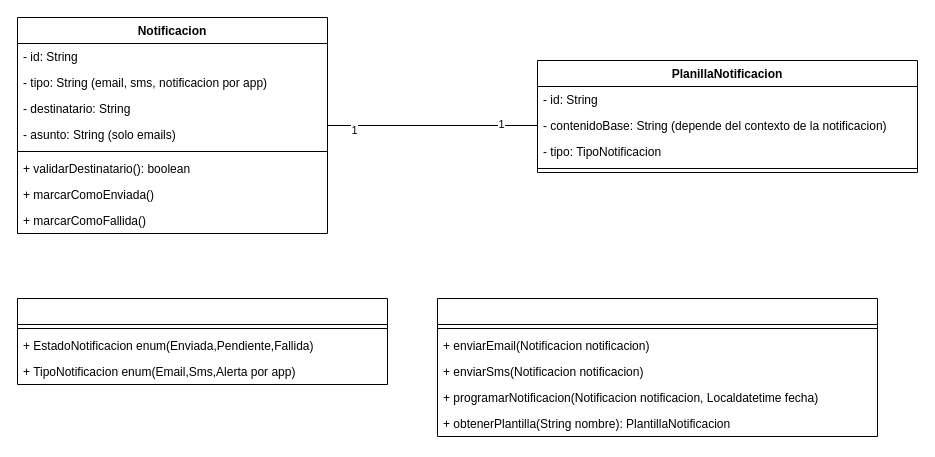
Some shapes in this 935 by 457 pixel diagram are drawn without their labels. The shapes that lost their labels are listed below. From the top down, each one's box as (x1, y1, x2, y2) in pixels, then its label:
(16, 298, 388, 384): Enumeraciones_Noficiaciones
(436, 298, 878, 436): NotificacionServicios
